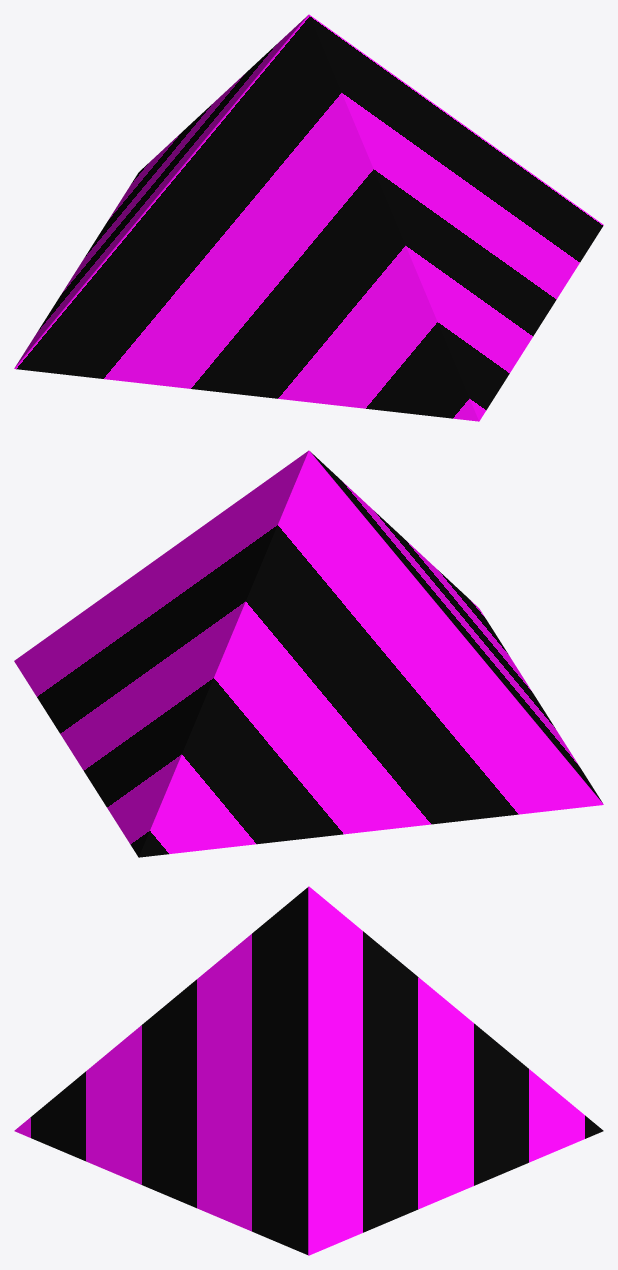
Rendered from helper.glb.
3 renders of one model, top to bottom at view 1: azimuth 30°, elevation 25°; view 2: azimuth 150°, elevation 25°; view 3: azimuth 270°, elevation 25°, orthographic. The views are drawn at different scales.
Parts seen in each view (by area): view 1: Cone; view 2: Cone; view 3: Cone.
Boxes of the visible parts, box(x1,y1,x2,y2) form: Cone: box(14, 14, 603, 421); Cone: box(14, 450, 603, 857); Cone: box(14, 886, 603, 1255).
Bounding box in the file's own units: 0.2544 × 0.1165 × 0.2544.
Materials: 1 (1 with a texture image).
